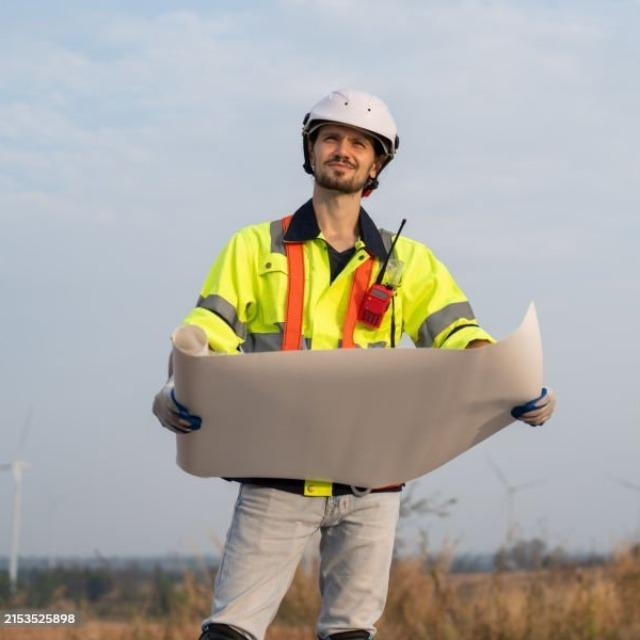Con_Casco: (300, 88, 402, 196)
